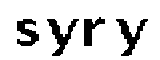r: (83, 15, 107, 49)
s: (15, 17, 40, 48)
y: (43, 16, 81, 60), (113, 15, 149, 60)
